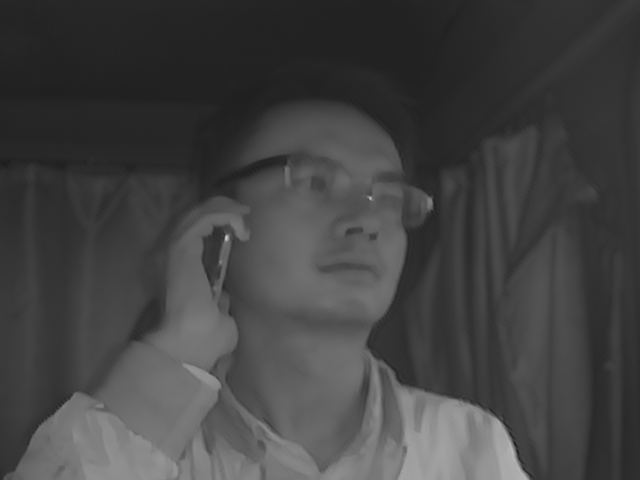hand: (152, 195, 244, 356)
